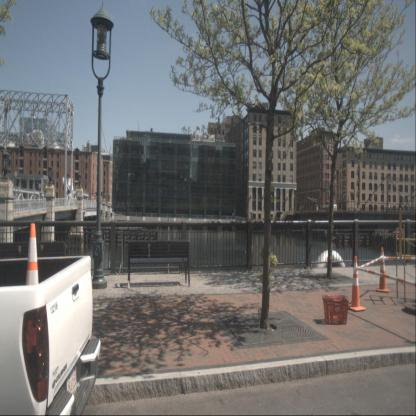cone: (18, 223, 46, 358), (346, 256, 366, 312), (375, 247, 390, 293)
